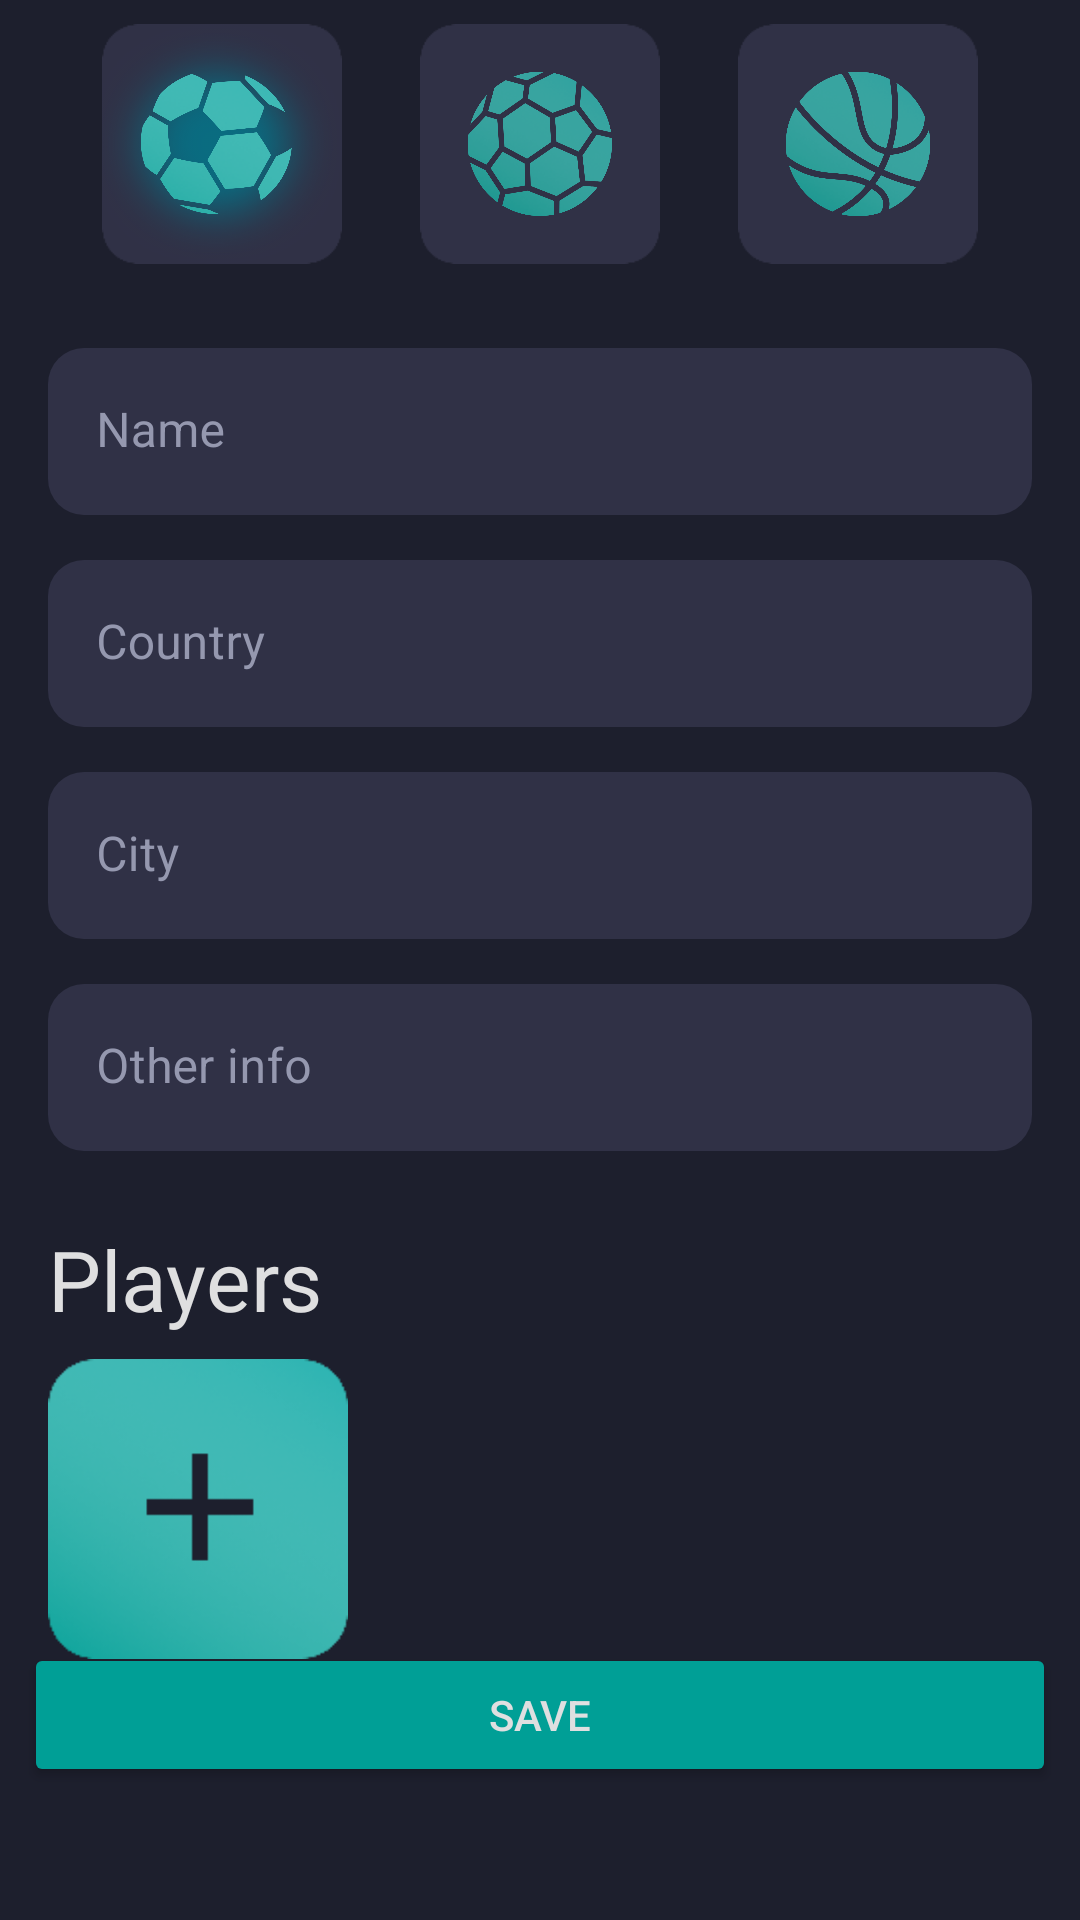

Icons on this 1080×1920 Android screen, each with its box as (x1, y1, x2, y2):
plus: (48, 1359, 348, 1659)
